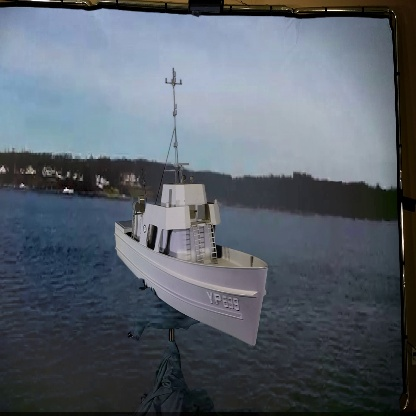YP689: (113, 68, 268, 348)
